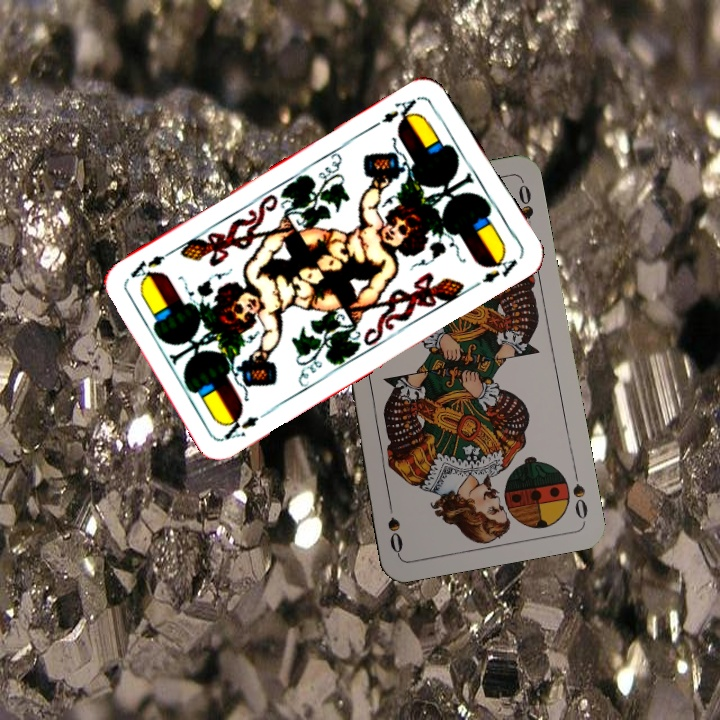EA: (370, 92, 422, 130), (220, 410, 262, 443)
SO: (568, 464, 590, 522)
